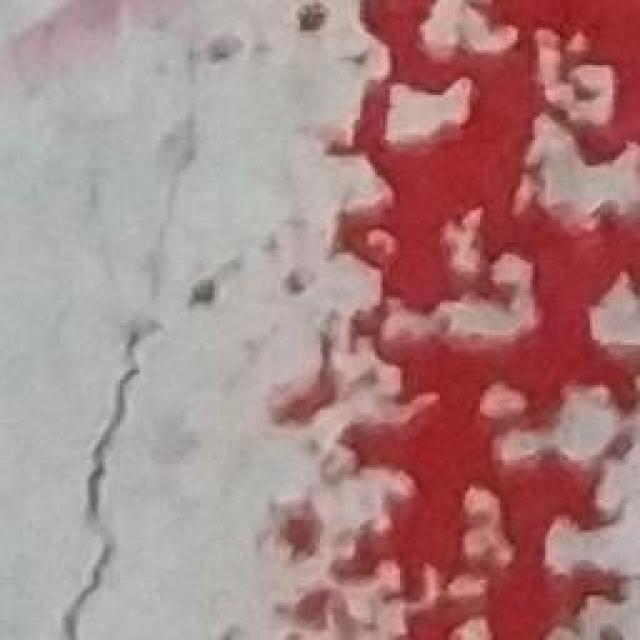Longitudinal: (65, 0, 207, 635)
